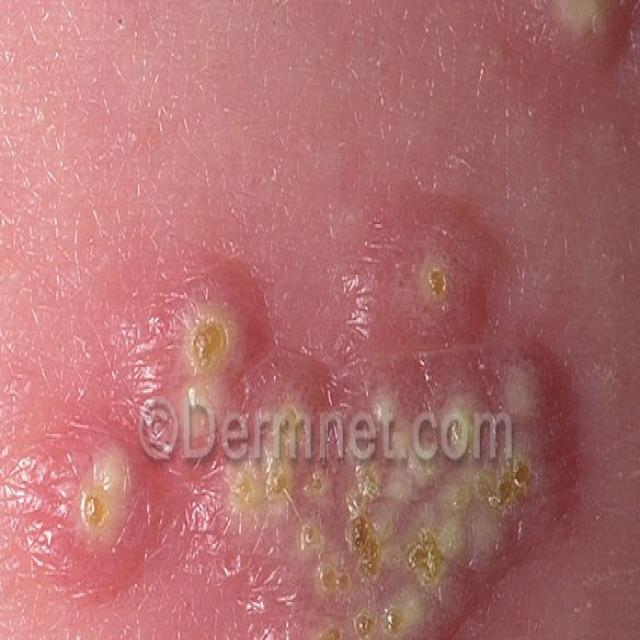Viral Infections: (70, 222, 558, 640)
